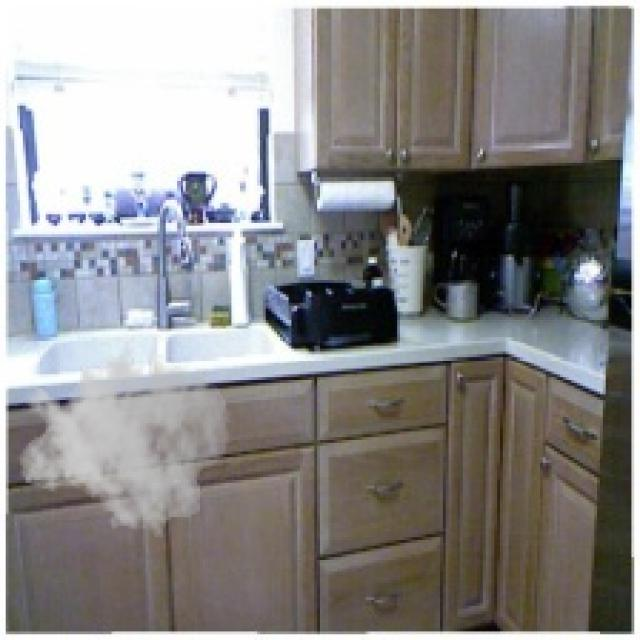smoke: (17, 331, 232, 543)
